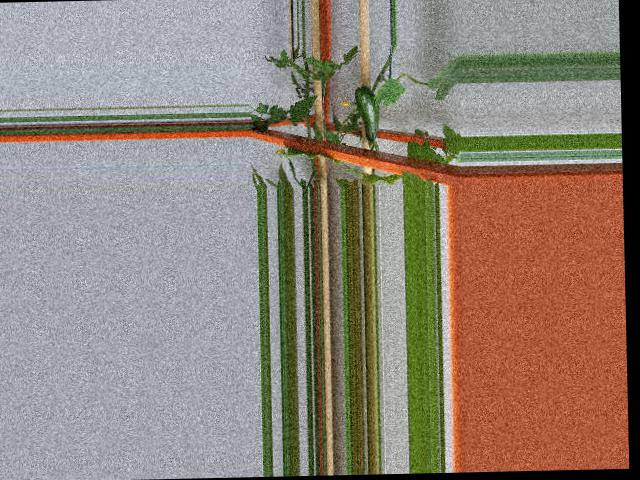cucumber: (354, 80, 379, 141)
